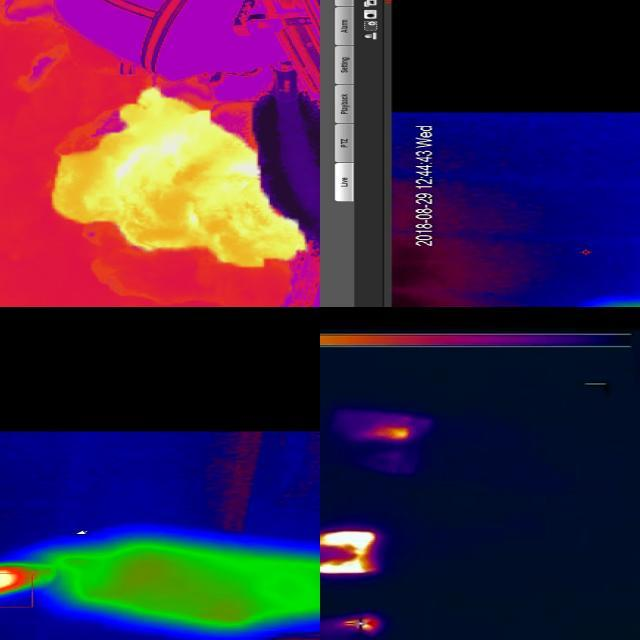fire: (50, 84, 310, 268), (321, 530, 379, 578), (1, 564, 31, 599), (336, 615, 380, 635), (364, 426, 414, 442)
